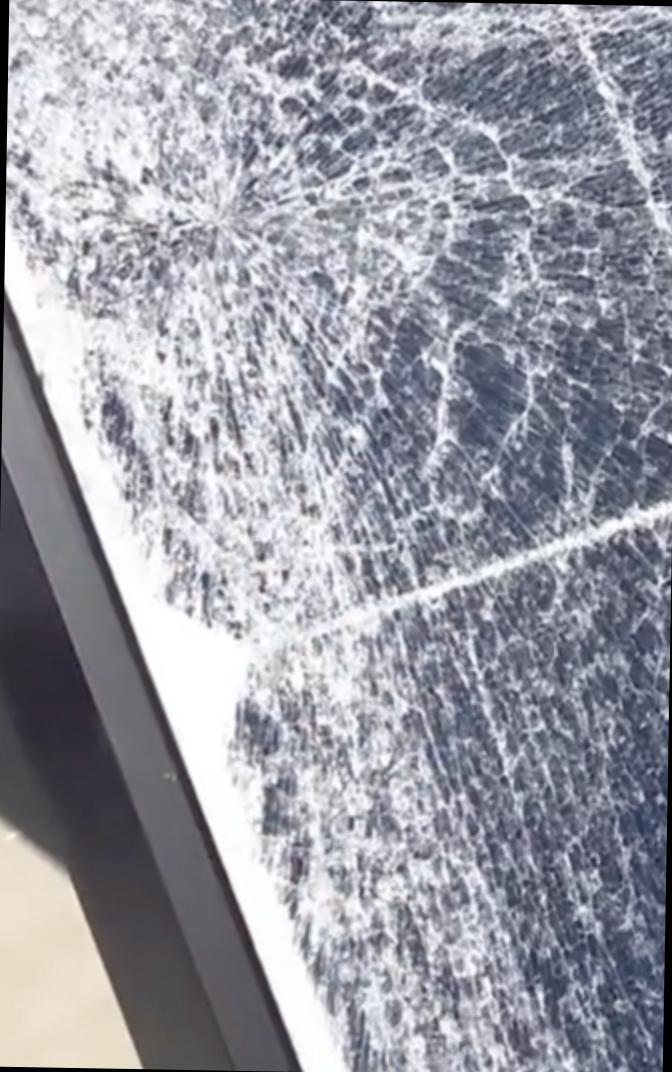Crack: (1, 0, 671, 585), (127, 589, 672, 1071)
